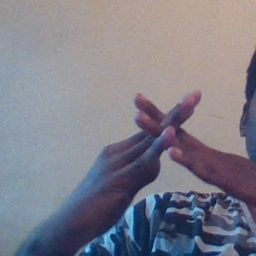W: (107, 71, 228, 203)
